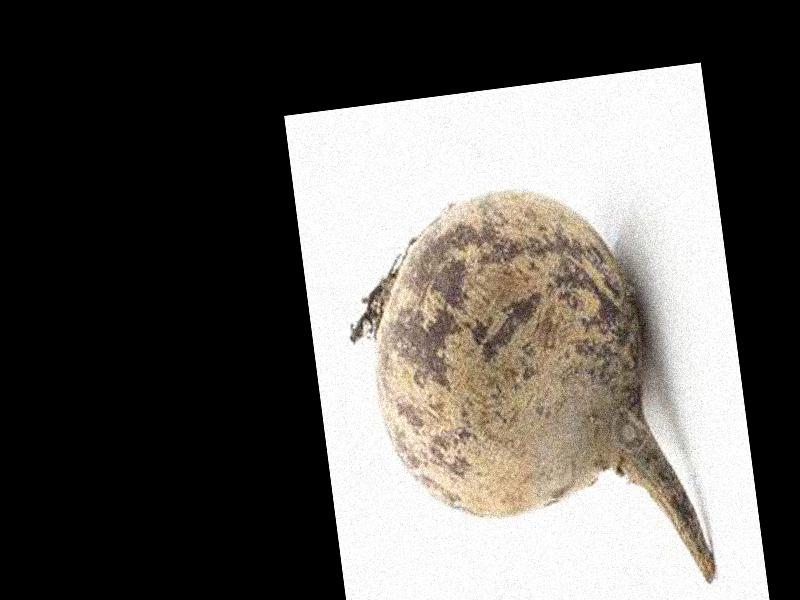Beet: (334, 169, 715, 600)
